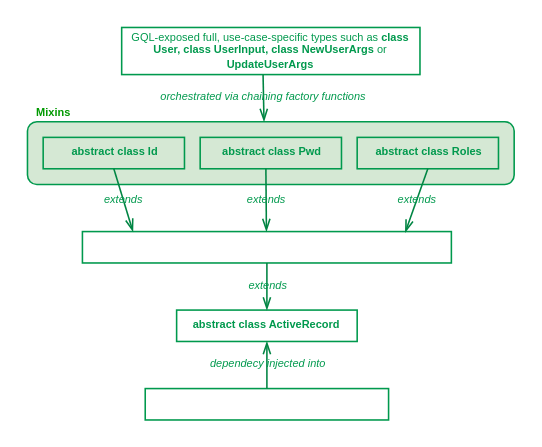
Some shapes in this 542 by 447 pixel diagram are drawn without their labels. The shapes that lost their labels are listed below. From the top down, each one's centre as x and y in pixels, then its label:
the point at 266,246: base type with common props such as abstract class UserDetails
the point at 266,403: abstract class DbClient for DB connection
